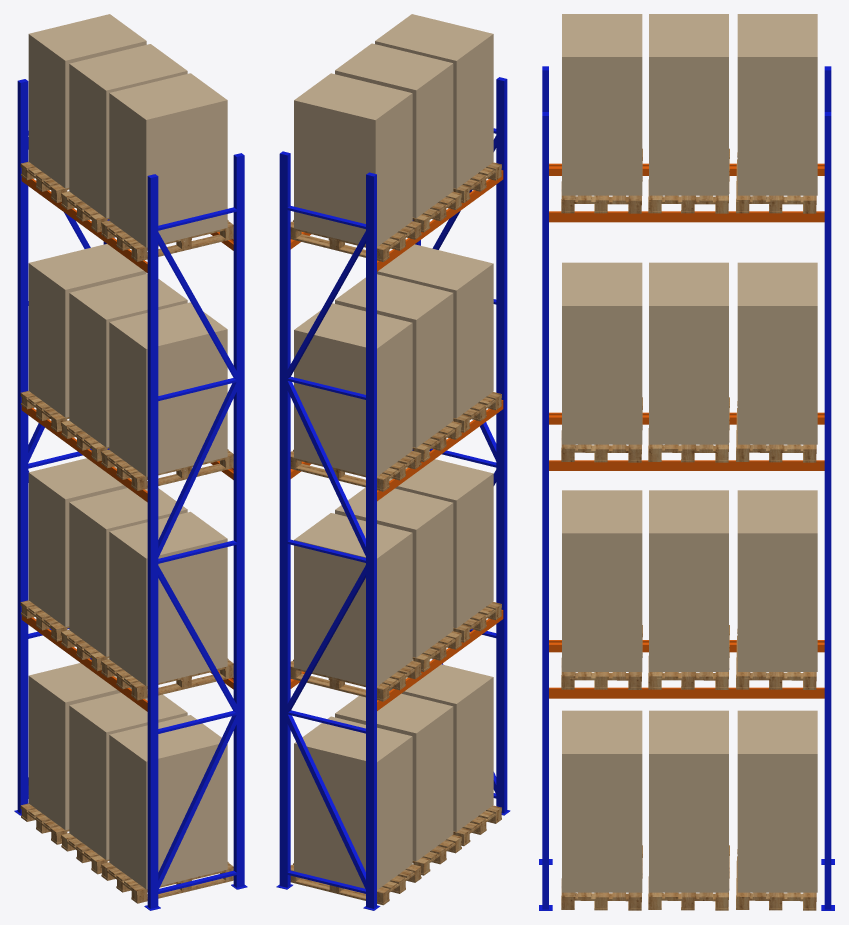
File: Rack.glb
3 views of the same model, side by side, from view 1: azimuth 30°, elevation 25°; view 2: azimuth 150°, elevation 25°; view 3: azimuth 270°, elevation 25° (orthographic). The views are drawn at different scales.
Parts seen in each view (by area): view 1: Rack, Box_31, Box_21, Box_11, Box_01, Box_33, Box_23, Box_32, Box_22, Box_12, Box_02, Box_13 (+13 smaller); view 2: Rack, Box_33, Box_13, Box_23, Box_03, Box_32, Box_31, Box_21, Box_22, Box_12, Box_02, Box_11 (+13 smaller); view 3: Rack, Box_21, Box_23, Box_01, Box_03, Box_33, Box_31, Box_11, Box_13, Box_22, Box_02, Box_32 (+13 smaller).
Boxes of the visible parts, left/top/right/bottom form: Rack: left=14, top=79, right=247, bottom=910; Box_31: left=109, top=73, right=227, bottom=247; Box_21: left=109, top=302, right=227, bottom=476; Box_11: left=109, top=511, right=227, bottom=686; Box_01: left=109, top=715, right=227, bottom=889; Box_33: left=28, top=14, right=146, bottom=188; Box_23: left=28, top=244, right=146, bottom=417; Box_32: left=69, top=44, right=187, bottom=218; Box_22: left=69, top=273, right=187, bottom=447; Box_12: left=69, top=488, right=187, bottom=656; Box_02: left=69, top=689, right=187, bottom=859; Box_13: left=28, top=458, right=131, bottom=626; Rack: left=276, top=77, right=510, bottom=910; Box_33: left=294, top=73, right=412, bottom=246; Box_13: left=294, top=513, right=412, bottom=686; Box_23: left=294, top=303, right=412, bottom=476; Box_03: left=294, top=716, right=412, bottom=889; Box_32: left=335, top=43, right=453, bottom=218; Box_31: left=375, top=14, right=493, bottom=188; Box_21: left=377, top=244, right=493, bottom=418; Box_22: left=335, top=274, right=453, bottom=447; Box_12: left=335, top=487, right=453, bottom=657; Box_02: left=335, top=693, right=453, bottom=861; Box_11: left=389, top=459, right=493, bottom=628; Rack: left=539, top=66, right=834, bottom=910; Box_21: left=562, top=262, right=642, bottom=444; Box_23: left=737, top=262, right=817, bottom=444; Box_01: left=562, top=710, right=642, bottom=892; Box_03: left=737, top=710, right=817, bottom=892; Box_33: left=737, top=14, right=817, bottom=195; Box_31: left=562, top=14, right=642, bottom=195; Box_11: left=562, top=490, right=642, bottom=671; Box_13: left=737, top=490, right=817, bottom=671; Box_22: left=649, top=262, right=728, bottom=444; Box_02: left=649, top=710, right=728, bottom=892; Box_32: left=649, top=14, right=728, bottom=195.
Bounding box in the file's own units: 12.28 × 91.79 × 28.99.
4 materials, 1 textured.
